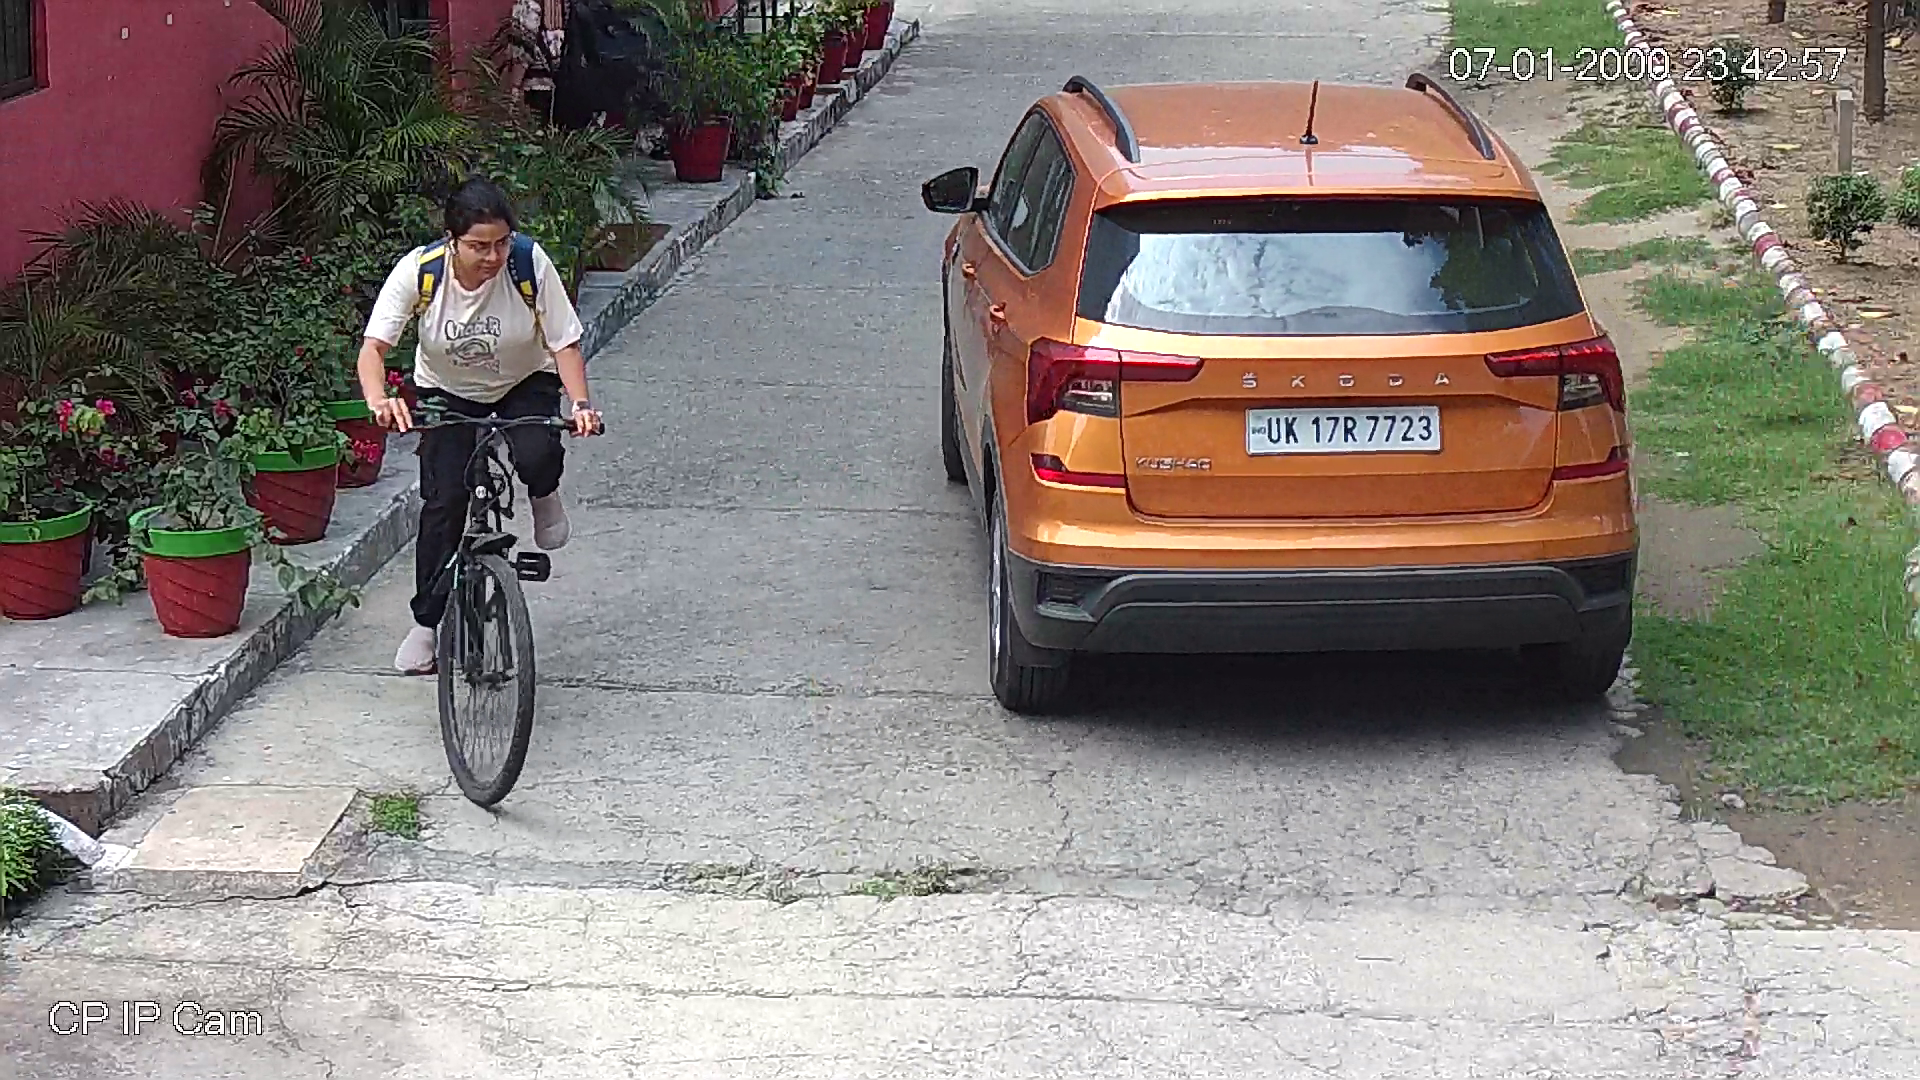plate: (1247, 406, 1442, 454)
